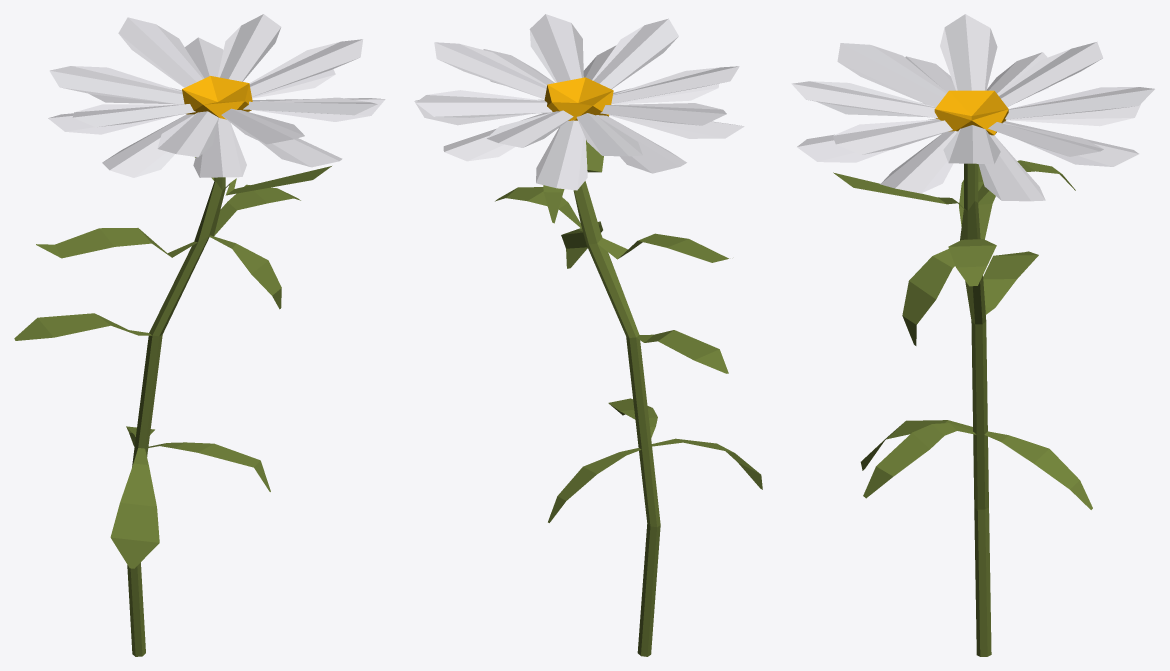
File: margarita.fbx
The picture shows the model from 3 angles, left to right: view 1: azimuth 30°, elevation 25°; view 2: azimuth 150°, elevation 25°; view 3: azimuth 270°, elevation 25°; orthographic projection. The views are drawn at different scales.
Visible parts, largest first — view 1: margarita flower; view 2: margarita flower; view 3: margarita flower.
Boxes of the visible parts, box(x1,y1,x2,y2) form: margarita flower: box(14, 14, 385, 656); margarita flower: box(414, 14, 762, 656); margarita flower: box(791, 14, 1154, 656).
Bounding box in the file's own units: 1.06 × 1.76 × 0.9597.
